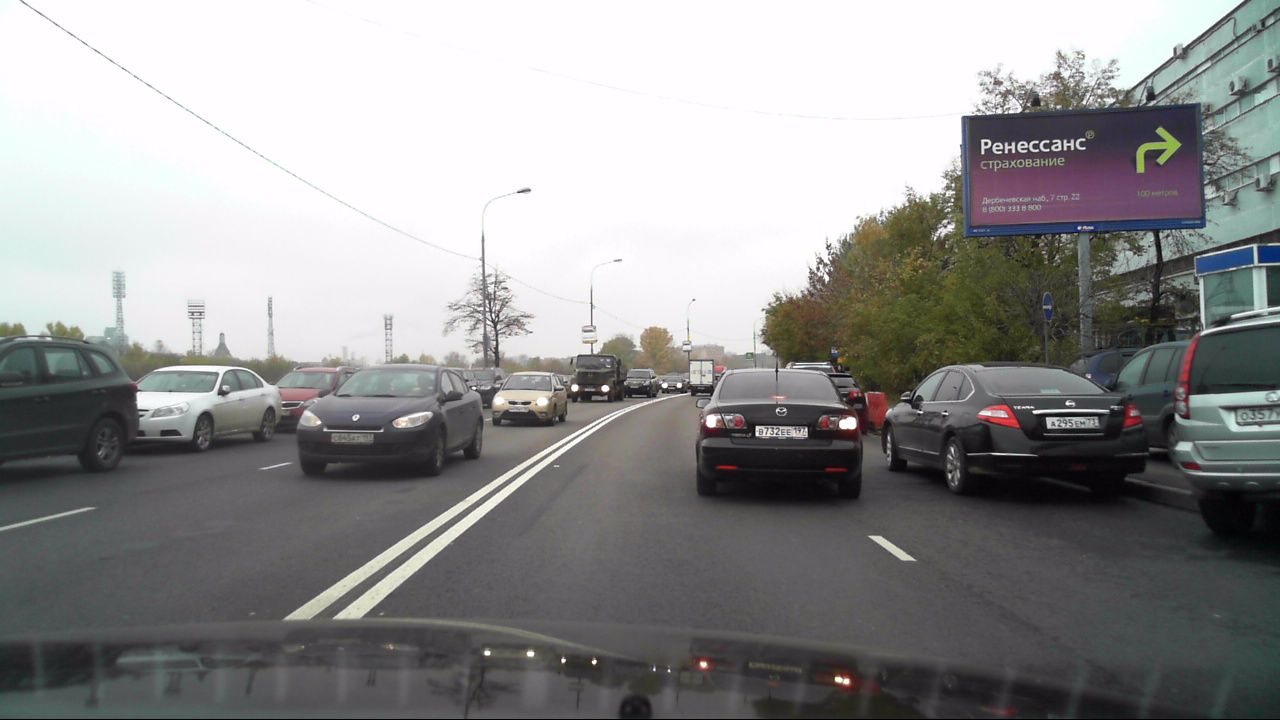Turn Right: (1043, 291, 1054, 320)
